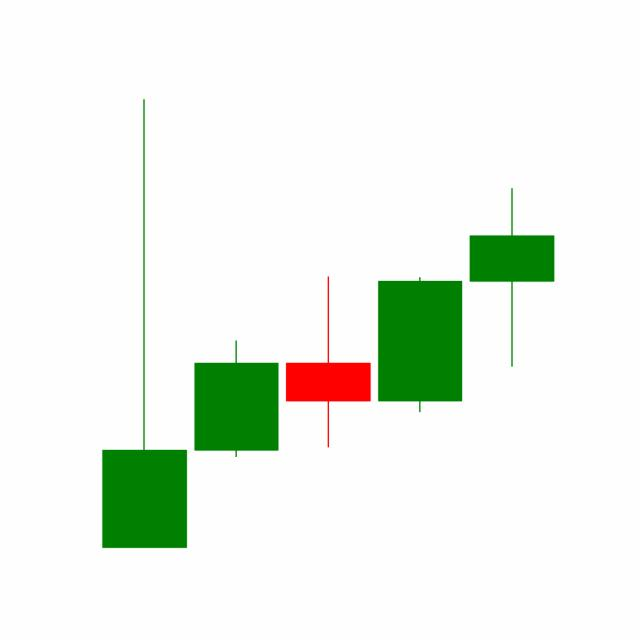Marubozu: (373, 274, 467, 414)
